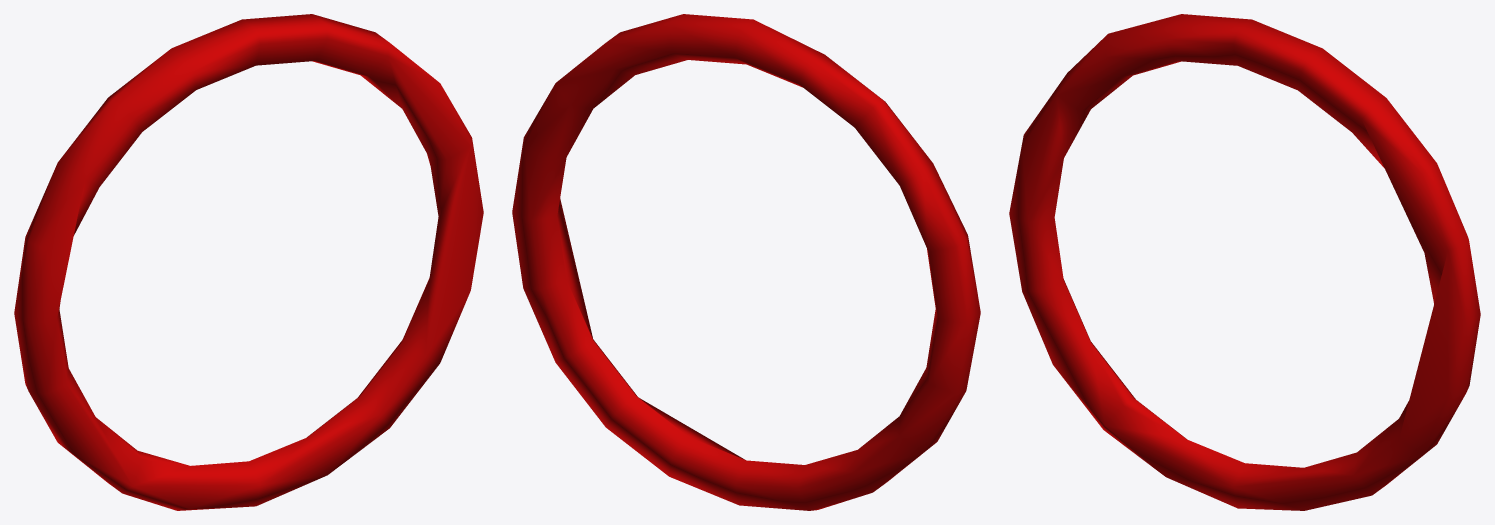
Rendered from ringRed.fbx.
3 views of the same model, side by side, from view 1: azimuth 30°, elevation 25°; view 2: azimuth 150°, elevation 25°; view 3: azimuth 330°, elevation 25° (orthographic).
Visible parts, largest first — view 1: pTorus1; view 2: pTorus1; view 3: pTorus1.
Part boxes in pixels (bbox=[...]): pTorus1: bbox=[14, 14, 483, 510]; pTorus1: bbox=[512, 14, 980, 510]; pTorus1: bbox=[1009, 14, 1480, 510].
Size of the model in its own units: 1.94 by 1.94 by 0.1711.
